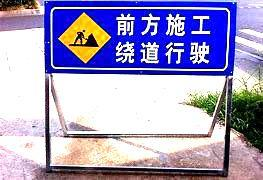sign: (45, 2, 233, 74)
